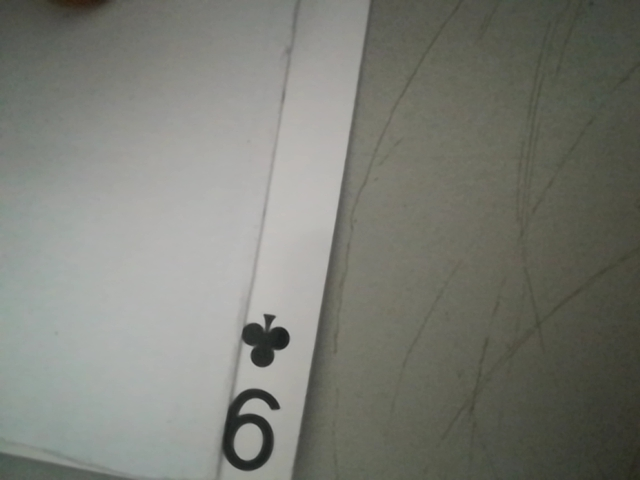mh 9: (211, 307, 309, 478)
